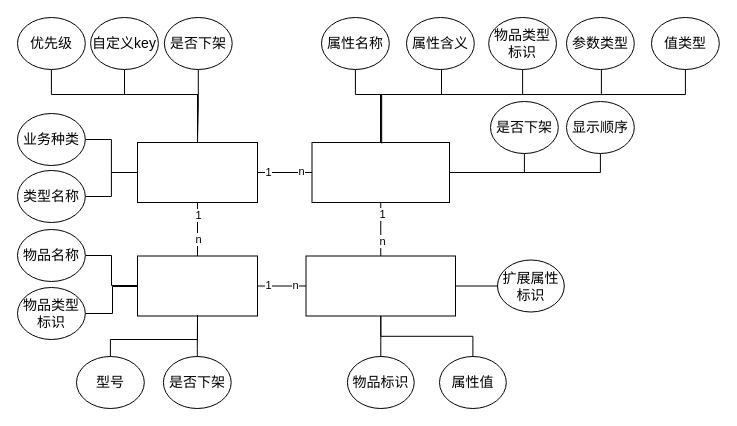
The diagram is 737 pixels wide and 426 high, and some of its shapes have lost their labels. The centre of each missing label's shape, as x and y in pixels:
扩展属性值表 attribute_value_table: (x=380, y=285)
物品扩展属性表 item_attribute_table: (x=380, y=172)
物品类型表 type_table: (x=197, y=172)
物品表 item_table: (x=197, y=285)
